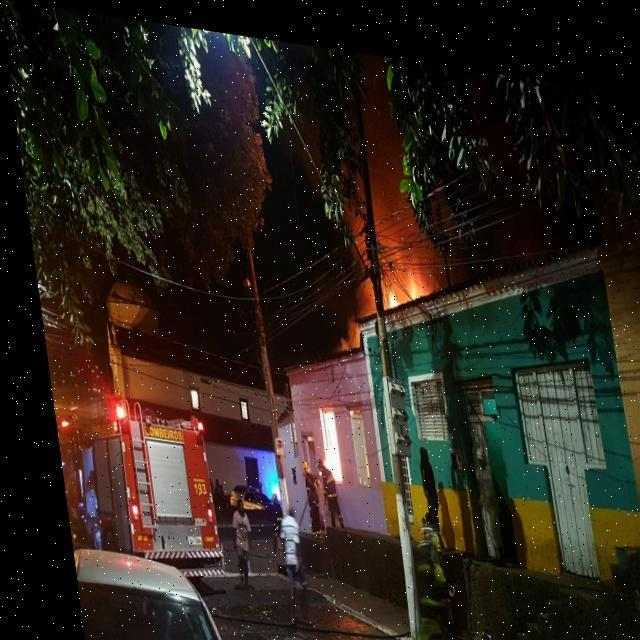Fire: (375, 245, 419, 302)
